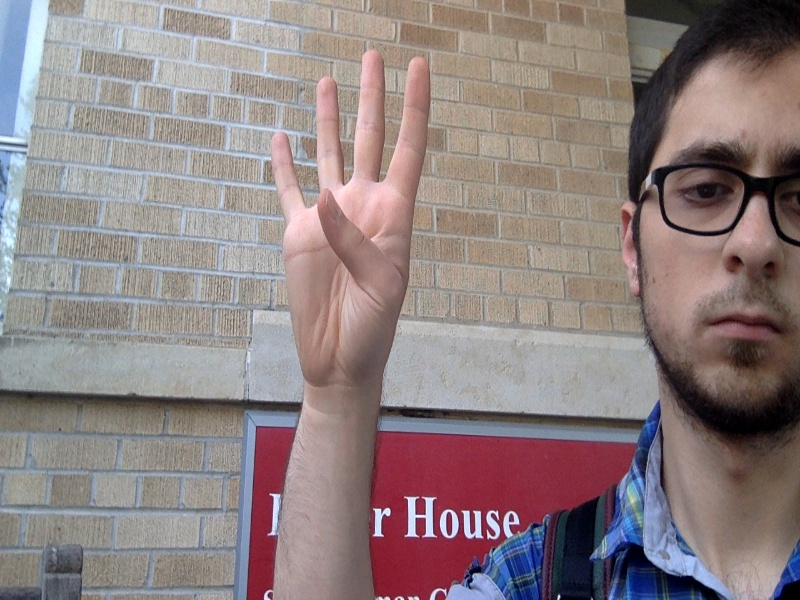4-hand: (271, 51, 431, 392)
